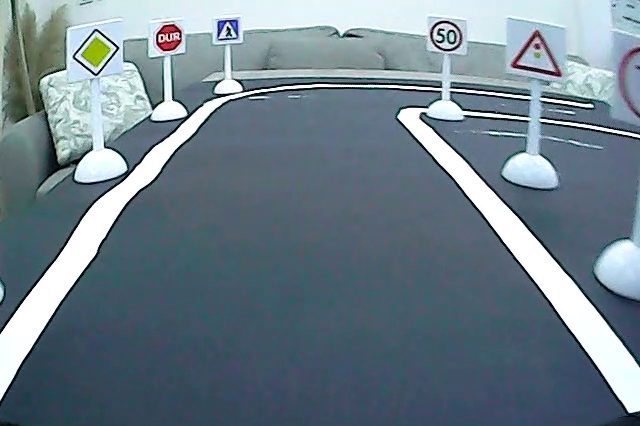pedestrian crossing: (215, 17, 241, 43)
red light: (507, 24, 565, 80)
speed limit 50: (428, 19, 465, 53)
stop sign: (152, 22, 185, 55)
